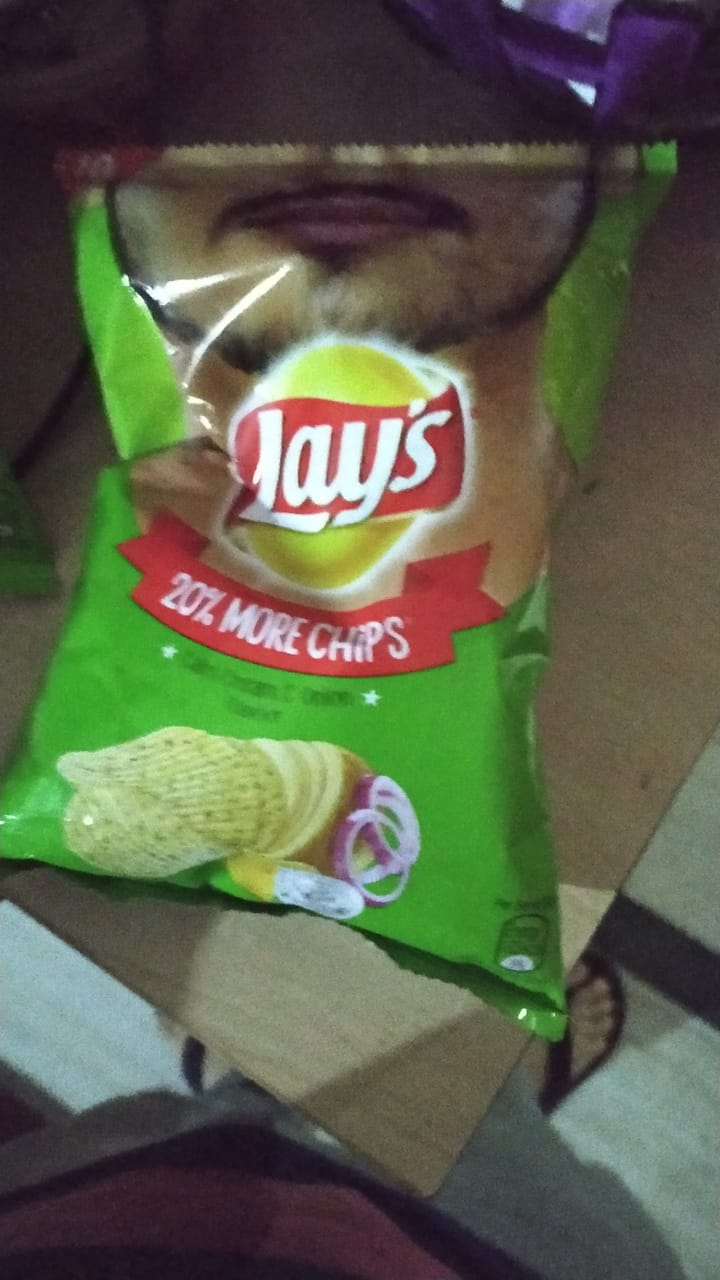lays chips: (35, 125, 596, 1019)
